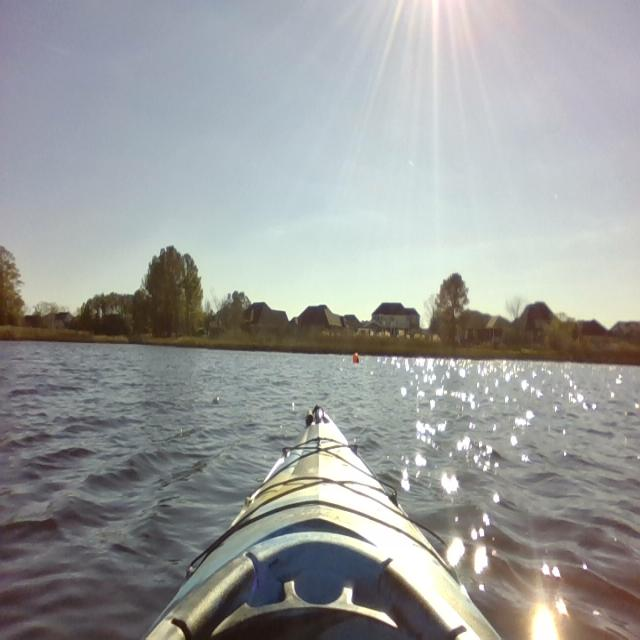Buoy: (350, 348, 362, 369)
